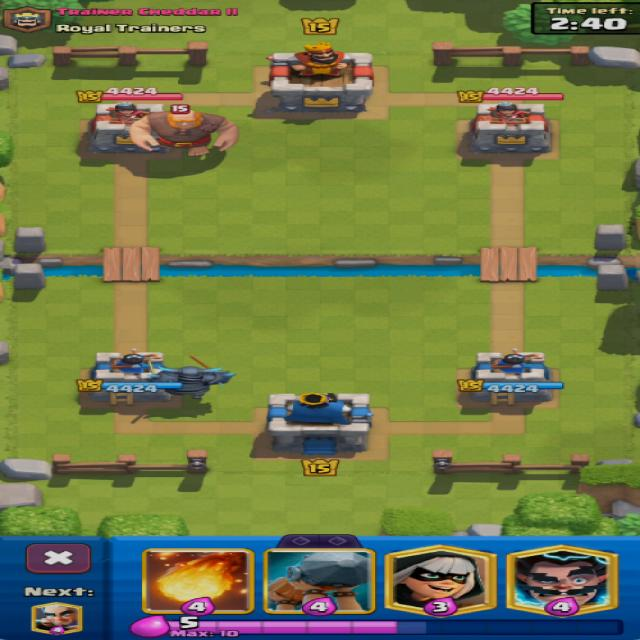Enemy-Giant: (132, 108, 237, 155)
Enemy-KingTower: (270, 44, 372, 114)
Enemy-PrincessTower: (470, 103, 550, 154), (90, 102, 161, 153)
